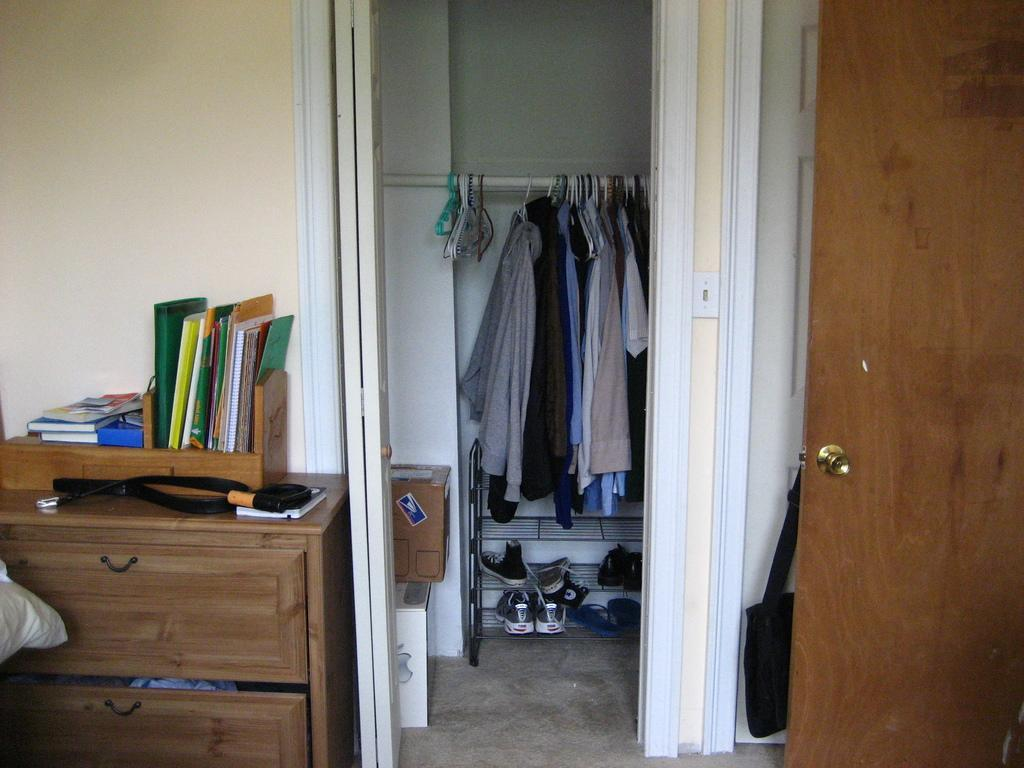door: (829, 15, 1024, 768)
handle: (818, 440, 858, 482)
